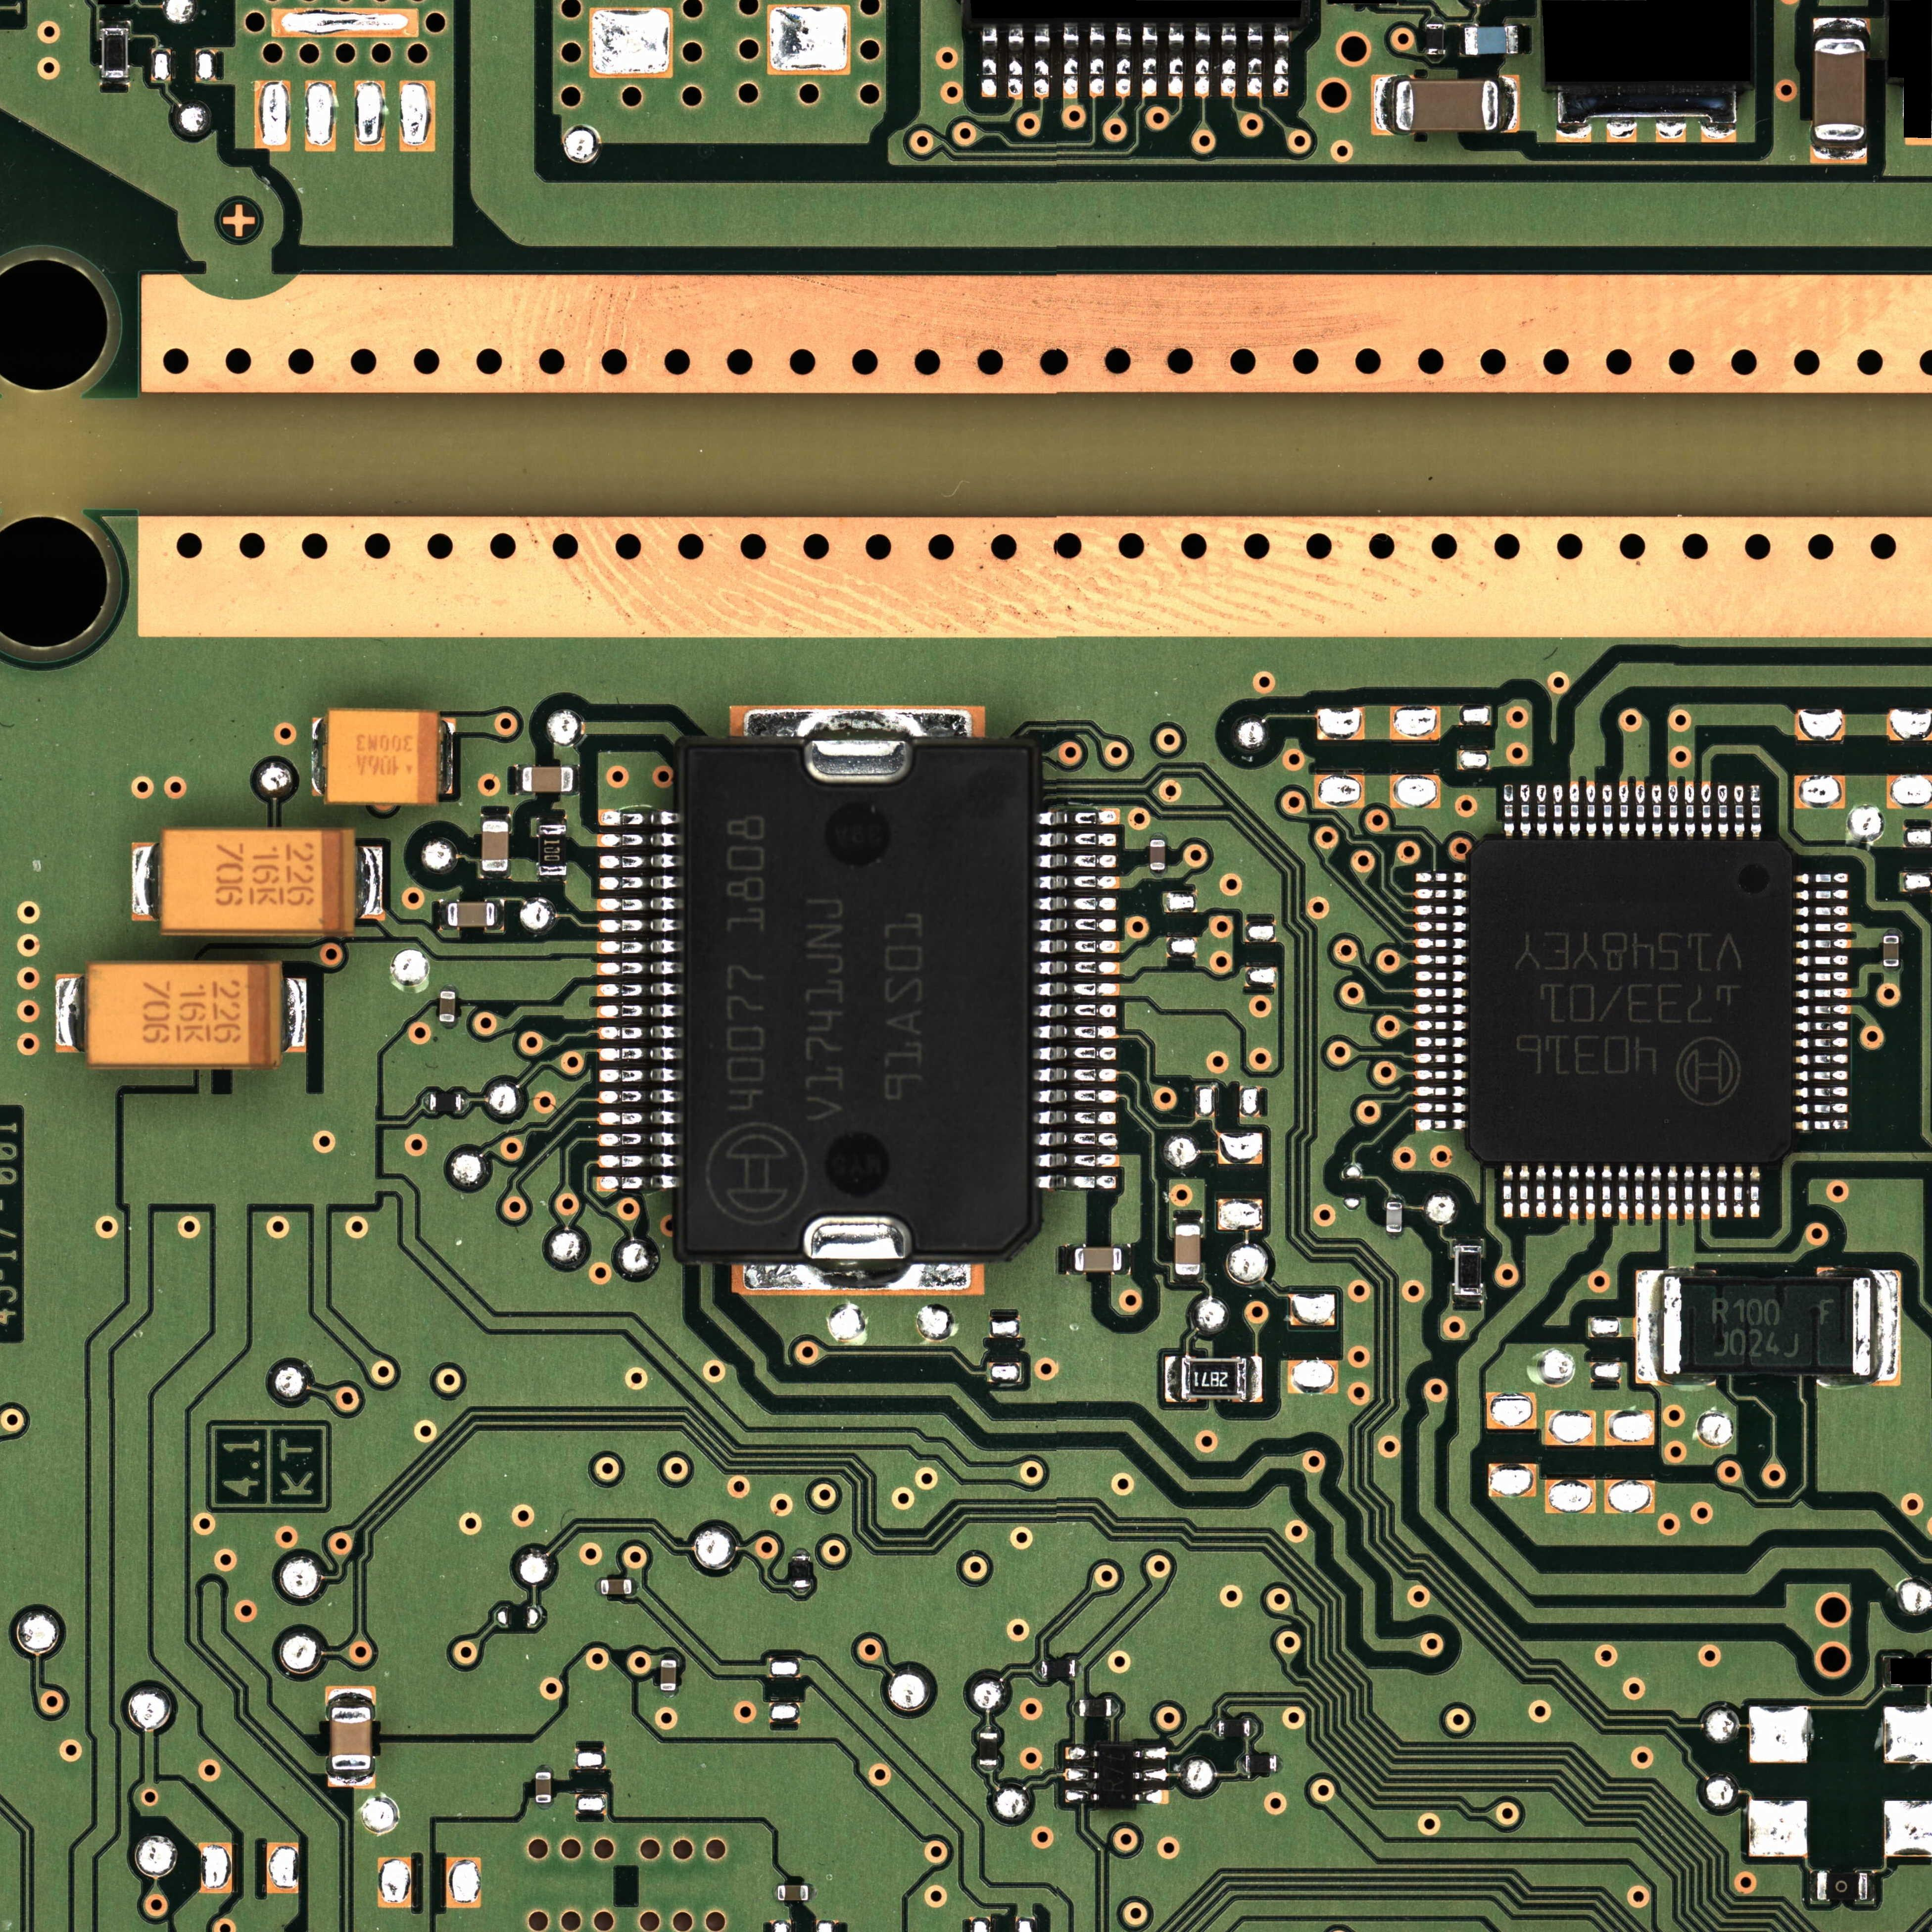Package: (685, 747, 1028, 1251), (1470, 840, 1792, 1162), (1663, 1276, 1872, 1375), (88, 964, 281, 1067), (163, 830, 354, 931), (327, 709, 437, 803), (1812, 39, 1865, 140), (1396, 80, 1499, 131), (1182, 1359, 1247, 1399), (331, 1707, 372, 1769), (1097, 1744, 1134, 1806), (1465, 27, 1518, 55), (538, 824, 566, 876), (1817, 1872, 1867, 1900), (101, 28, 129, 78), (522, 766, 573, 793), (481, 821, 508, 870), (1454, 1246, 1481, 1295), (1175, 1224, 1200, 1276), (448, 902, 495, 927), (1074, 1247, 1122, 1272), (978, 1732, 998, 1766), (1042, 1660, 1076, 1677), (430, 1093, 462, 1111), (793, 1555, 810, 1587), (1426, 23, 1444, 55), (1079, 1698, 1111, 1716), (1246, 1755, 1276, 1773), (1219, 1720, 1249, 1737), (439, 991, 455, 1023), (660, 1660, 676, 1690), (536, 1773, 552, 1803), (1882, 936, 1898, 966), (1150, 840, 1166, 869), (602, 1580, 632, 1594), (778, 1886, 809, 1900), (1387, 1203, 1401, 1231)
Solder: (1557, 90, 1737, 142), (743, 1261, 973, 1290), (743, 709, 971, 738), (1872, 1270, 1898, 1387), (1637, 1270, 1661, 1384), (57, 975, 85, 1053), (133, 842, 159, 922), (357, 846, 382, 918), (283, 978, 306, 1051), (1033, 959, 1120, 977), (1035, 809, 1118, 826), (1810, 140, 1867, 165), (596, 939, 683, 955), (596, 961, 683, 977), (596, 897, 683, 913), (596, 982, 683, 998), (596, 1003, 683, 1019), (598, 918, 683, 934), (596, 1154, 681, 1169), (598, 1088, 683, 1104), (598, 1024, 683, 1040), (598, 1046, 683, 1062), (598, 1067, 683, 1083), (1033, 874, 1118, 890), (1033, 982, 1118, 998), (1033, 1003, 1118, 1019), (598, 810, 681, 826), (598, 832, 681, 847), (596, 1175, 679, 1191), (1033, 916, 1116, 932), (1033, 853, 1116, 869), (1035, 1175, 1118, 1191), (1033, 1088, 1116, 1104), (1033, 1109, 1116, 1125), (1033, 1046, 1116, 1062), (1033, 1024, 1116, 1040), (1033, 1067, 1116, 1083), (1035, 832, 1116, 847), (1035, 895, 1116, 911), (1035, 1131, 1116, 1146), (311, 717, 327, 796), (1373, 76, 1394, 134), (1812, 18, 1870, 39), (1033, 939, 1120, 954), (598, 876, 683, 890), (1033, 1154, 1118, 1168), (1090, 23, 1106, 97), (1115, 23, 1131, 97), (1141, 23, 1157, 97), (1194, 23, 1210, 97), (1221, 23, 1237, 97), (1247, 23, 1263, 97), (1274, 23, 1290, 97), (600, 855, 683, 869), (598, 1111, 681, 1125), (598, 1132, 681, 1146), (1168, 23, 1184, 96), (980, 27, 996, 97), (1007, 27, 1023, 97), (1499, 76, 1518, 133), (439, 718, 453, 794), (326, 1686, 375, 1707), (1063, 23, 1077, 97), (1035, 25, 1049, 97), (1164, 1355, 1182, 1403), (327, 1771, 375, 1787), (1700, 782, 1713, 840), (1794, 987, 1852, 1000), (1651, 782, 1663, 839), (1794, 938, 1851, 950), (1794, 1003, 1851, 1016), (1414, 954, 1468, 966), (1414, 904, 1468, 916), (1414, 1019, 1468, 1031), (1414, 1003, 1468, 1016), (1601, 784, 1614, 839), (1536, 784, 1548, 839), (1794, 872, 1849, 885), (1794, 888, 1849, 901), (1794, 1102, 1849, 1115), (1415, 970, 1468, 982), (1414, 1053, 1467, 1065), (1414, 1069, 1467, 1081), (1794, 1037, 1847, 1049), (1247, 1357, 1261, 1403), (1415, 1118, 1467, 1131), (1684, 780, 1695, 839), (1668, 782, 1679, 839), (1635, 782, 1645, 839), (1619, 782, 1629, 839), (1585, 782, 1596, 839), (1569, 782, 1580, 839), (1718, 784, 1729, 840), (1794, 922, 1851, 932), (1635, 1164, 1645, 1221), (1667, 1164, 1677, 1221), (1651, 1164, 1661, 1221), (1684, 1164, 1695, 1221), (1414, 938, 1468, 948), (1414, 922, 1468, 932), (1414, 888, 1468, 899), (1414, 987, 1468, 998), (1520, 784, 1530, 839), (1553, 784, 1564, 839), (1504, 784, 1514, 839), (1794, 906, 1849, 916), (1794, 955, 1849, 966), (1794, 971, 1849, 982), (1569, 1164, 1580, 1219), (1585, 1164, 1596, 1219), (1617, 1164, 1628, 1219), (1601, 1164, 1612, 1219), (1794, 1120, 1849, 1131), (1794, 1021, 1849, 1031), (1700, 1164, 1711, 1219), (1716, 1164, 1727, 1219), (1415, 872, 1468, 883), (1414, 1086, 1467, 1097), (1414, 1102, 1467, 1113), (1134, 1789, 1169, 1805), (1734, 786, 1744, 839), (1750, 786, 1760, 839), (1552, 1164, 1562, 1217), (1536, 1164, 1546, 1217), (1520, 1164, 1530, 1217), (1794, 1054, 1847, 1065), (1794, 1086, 1847, 1097), (1794, 1070, 1847, 1081), (1502, 1164, 1513, 1217), (1750, 1164, 1760, 1217), (1734, 1164, 1744, 1217), (1415, 1037, 1467, 1047), (1065, 1789, 1099, 1803), (1065, 1746, 1099, 1760), (1065, 1767, 1097, 1782), (1134, 1769, 1168, 1782), (1134, 1746, 1168, 1759), (1879, 1656, 1890, 1688), (479, 870, 511, 879), (495, 899, 504, 931), (439, 899, 448, 931), (481, 812, 511, 821), (536, 816, 566, 824), (1122, 1244, 1131, 1274), (1453, 1237, 1483, 1246), (1453, 1295, 1483, 1304), (536, 876, 568, 883), (1171, 1276, 1203, 1283), (1458, 25, 1465, 57), (1810, 1870, 1817, 1902), (99, 19, 131, 27), (515, 764, 522, 794), (573, 764, 580, 794), (1173, 1217, 1203, 1224), (1067, 1244, 1074, 1274), (1518, 25, 1525, 55), (1868, 1872, 1875, 1902), (101, 78, 131, 85), (978, 1764, 998, 1773), (534, 1764, 552, 1773), (809, 1884, 817, 1902), (1426, 16, 1444, 25), (1249, 1720, 1258, 1737), (1276, 1755, 1284, 1773), (770, 1884, 778, 1900), (1426, 55, 1445, 62), (439, 1023, 456, 1030), (462, 1093, 469, 1111), (423, 1093, 430, 1111), (793, 1587, 810, 1594), (632, 1578, 639, 1596), (793, 1548, 810, 1555), (660, 1652, 678, 1660), (1385, 1233, 1403, 1240), (1111, 1698, 1118, 1716), (1076, 1660, 1083, 1677), (1238, 1755, 1246, 1773), (1212, 1720, 1219, 1737), (1882, 929, 1900, 936), (1882, 966, 1900, 973), (441, 984, 456, 991), (594, 1578, 602, 1594), (536, 1803, 552, 1810), (660, 1691, 676, 1698), (1150, 870, 1166, 878), (1150, 832, 1166, 839), (1035, 1661, 1042, 1677), (1072, 1700, 1079, 1716), (978, 1727, 998, 1732), (1387, 1196, 1403, 1201)
